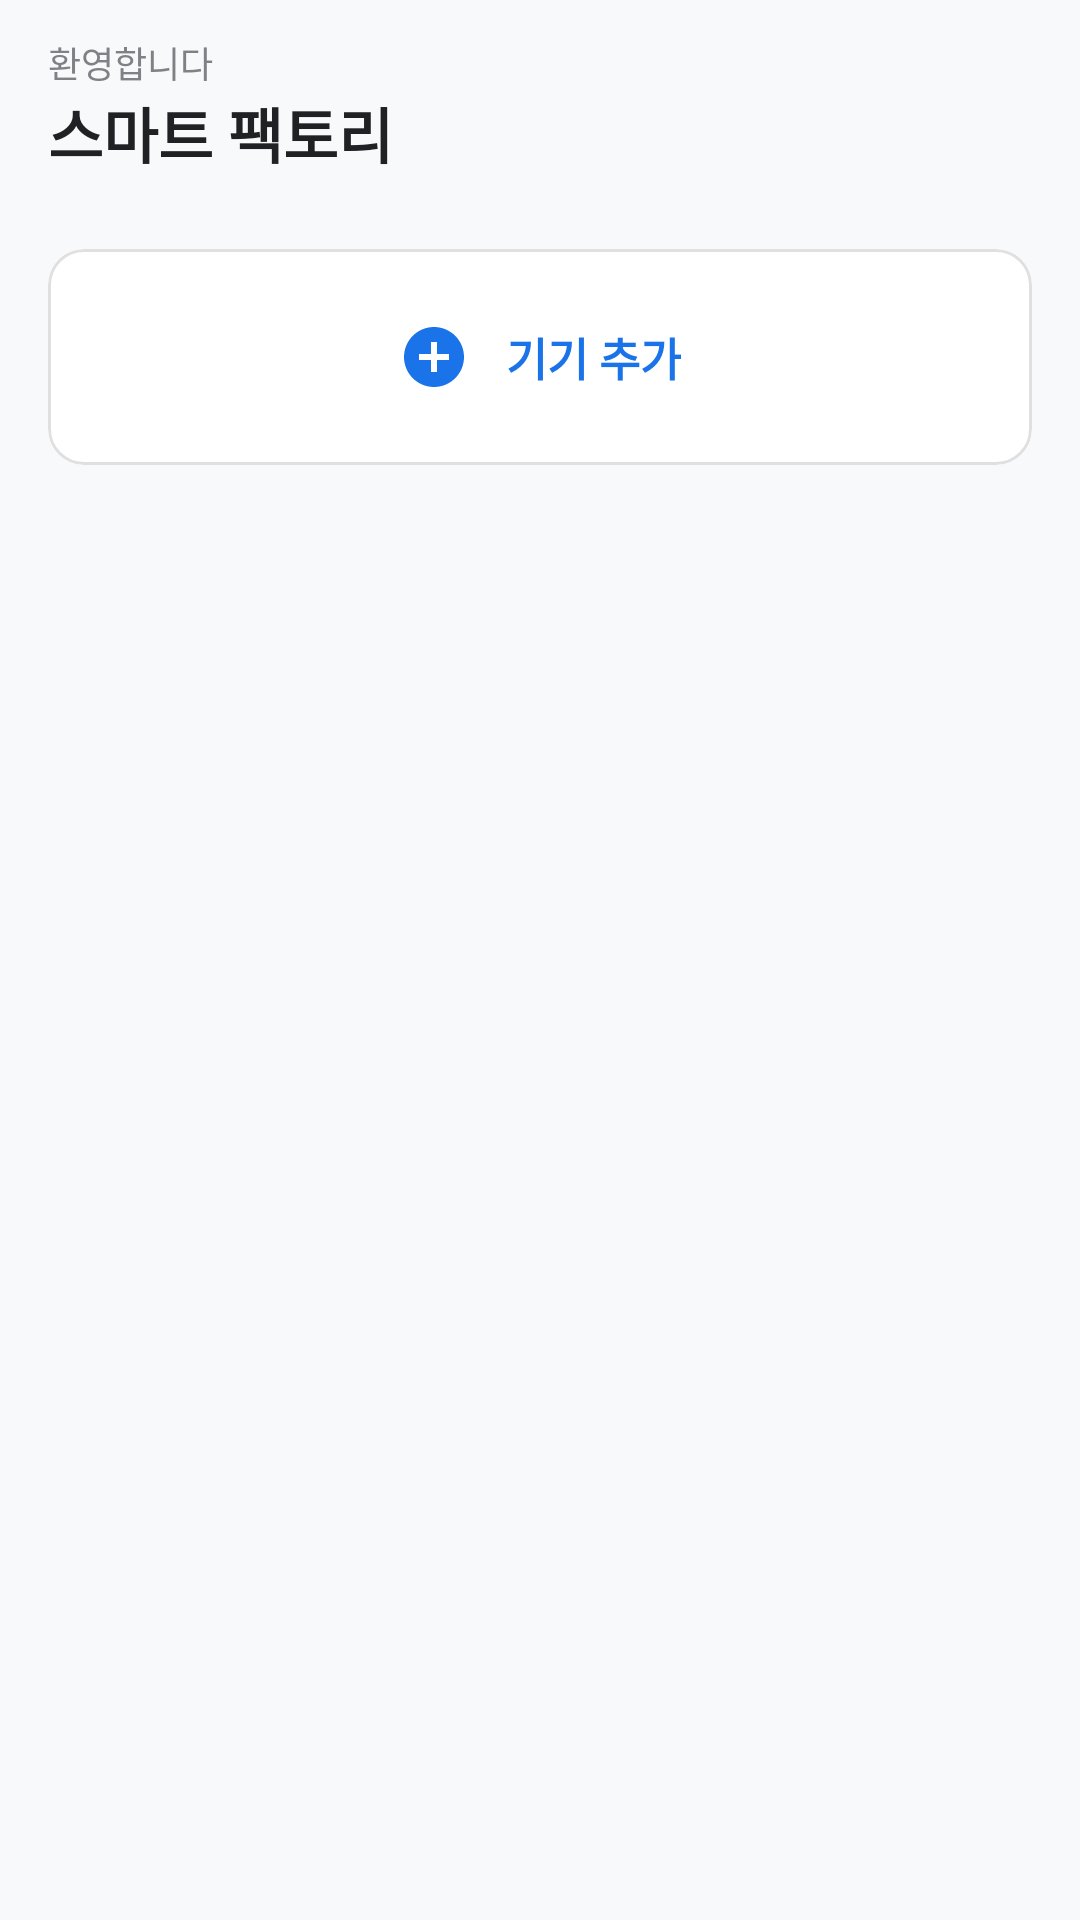

Point at icon controls on the screen. Image size 1080 x 1920, points as (x,y).
add circle: (434,357)
